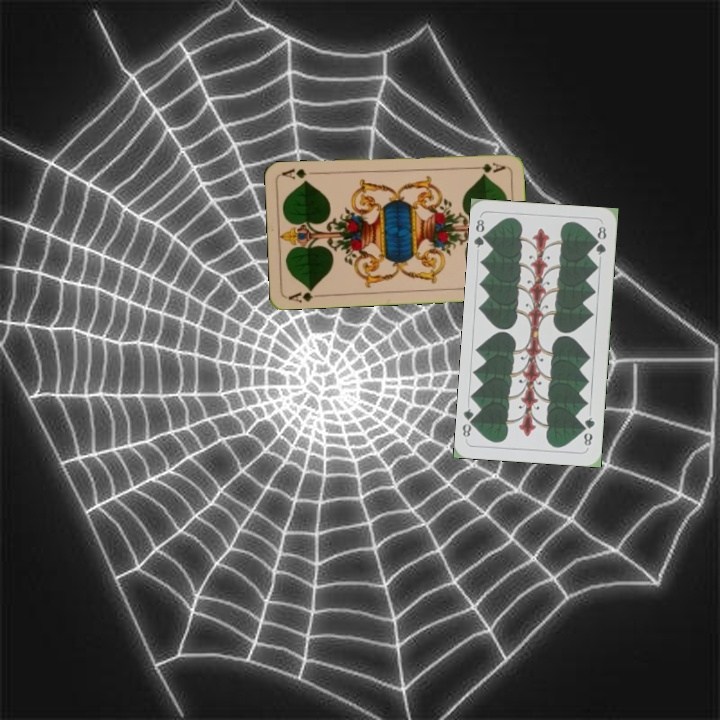G8: (471, 215, 491, 250), (579, 413, 597, 448)
GA: (284, 284, 325, 304), (467, 158, 507, 176)
